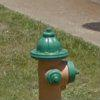Hydrant: (26, 20, 77, 100)
